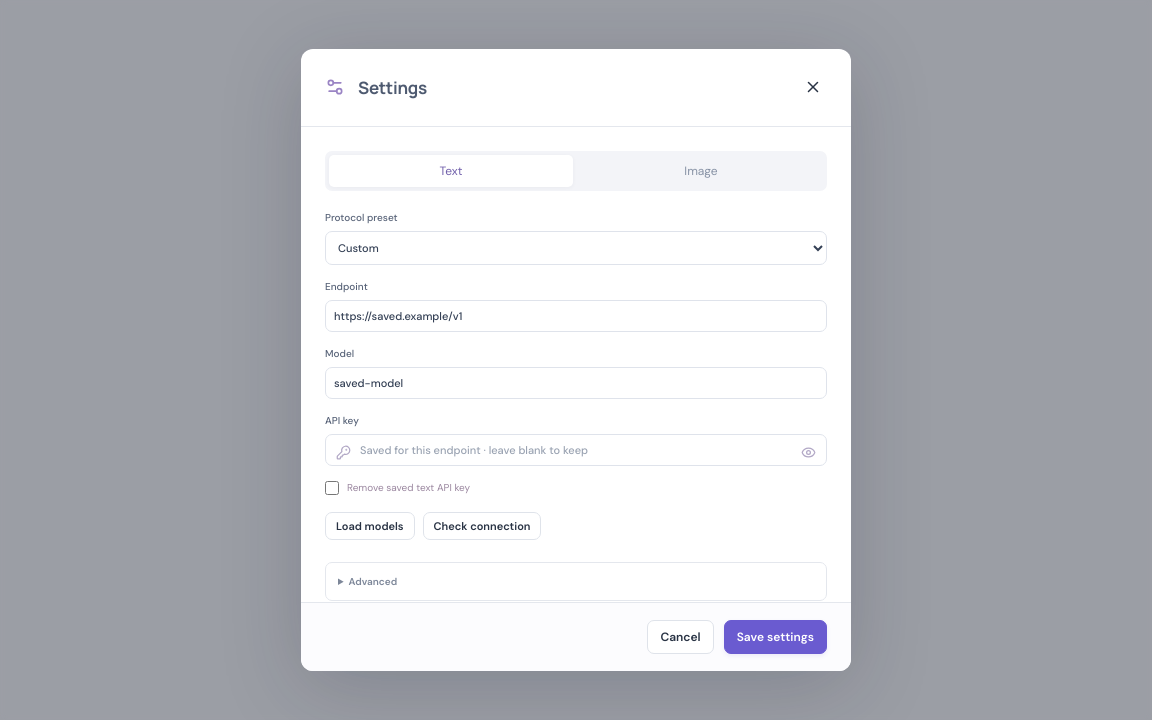
Test: provider metadata settings › invalidates late probe responses and saved-key hints after an endpoint edit
Click the button "Check connection" at (482, 526), box [423, 512, 542, 540]
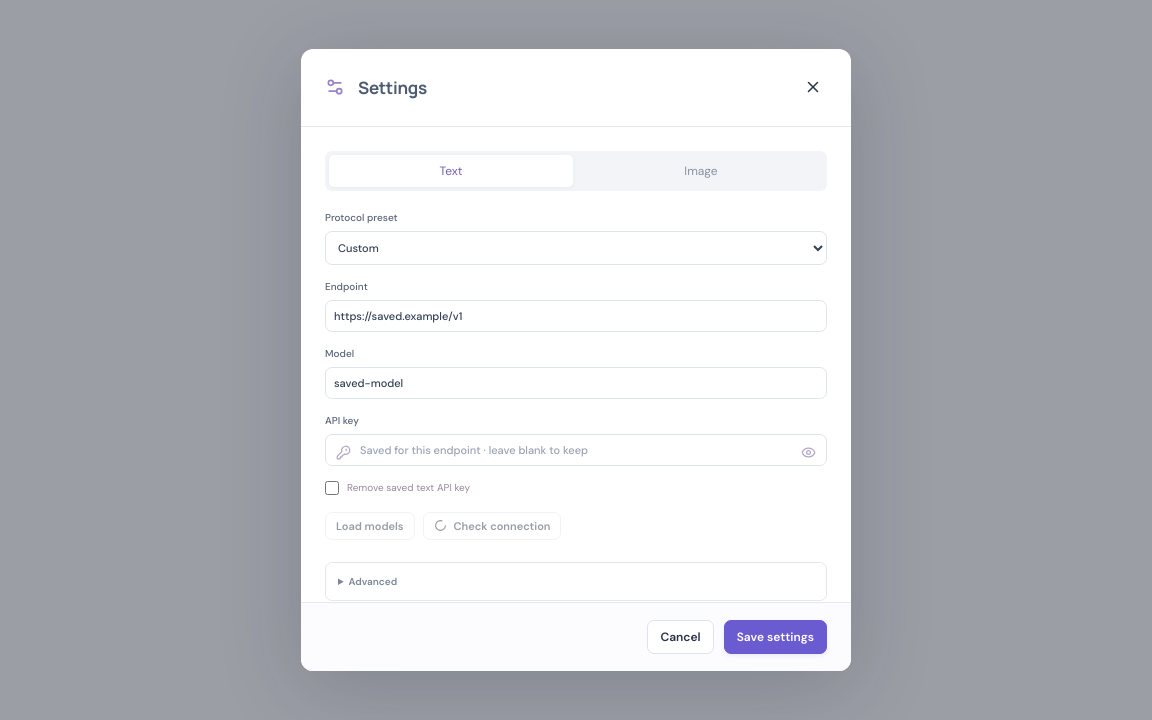
Replace the text in the field labelled "Endpoint" with "https://new.example/v1" at (576, 316), box [325, 300, 827, 332]
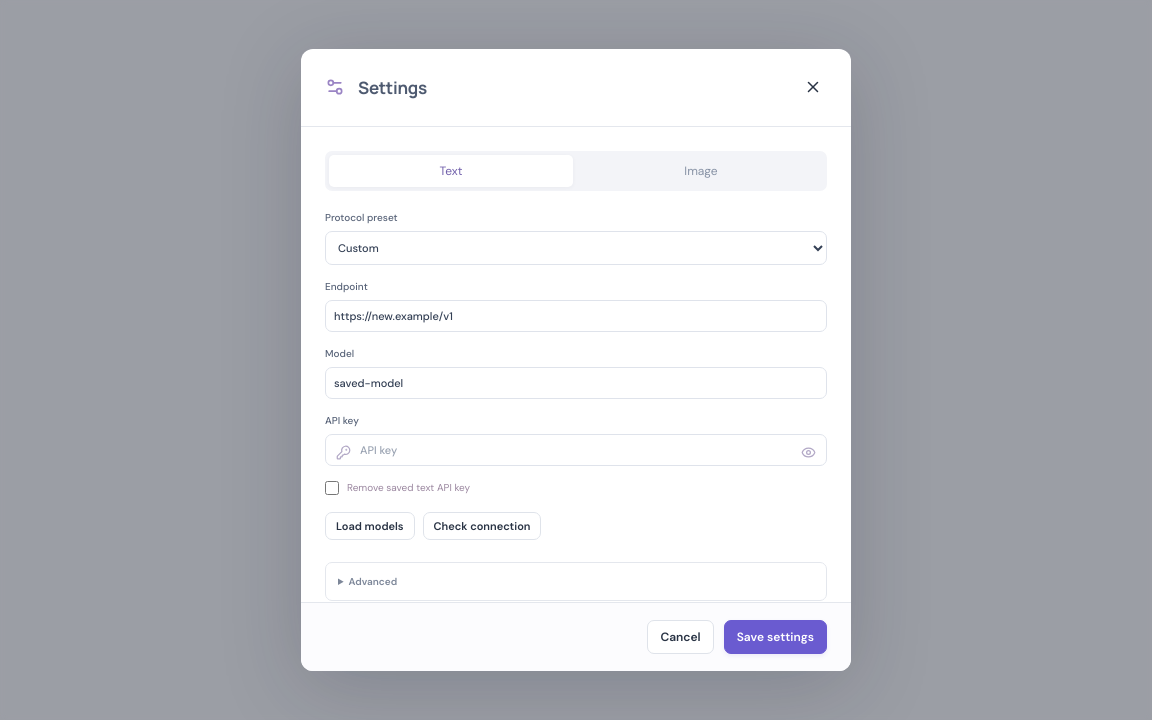
Expected: the label "API key" is shown, [325, 414, 827, 466]
Expected: the button "Check connection" is enabled, [423, 512, 542, 540]
